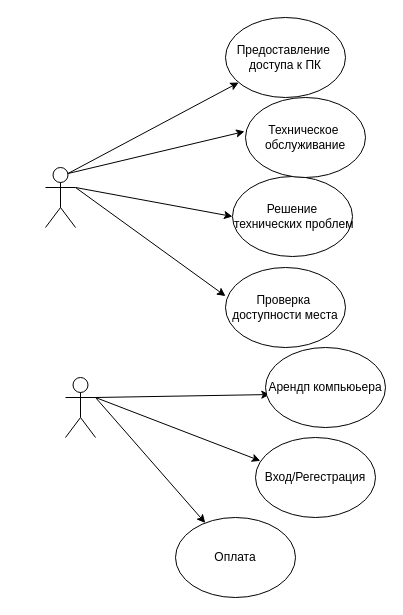
This 403x615 diagram has some shape labels left out. Each missing label, with the centre of its shape:
"Администратор" goes at point (60, 197).
"Клиент" goes at point (80, 407).
